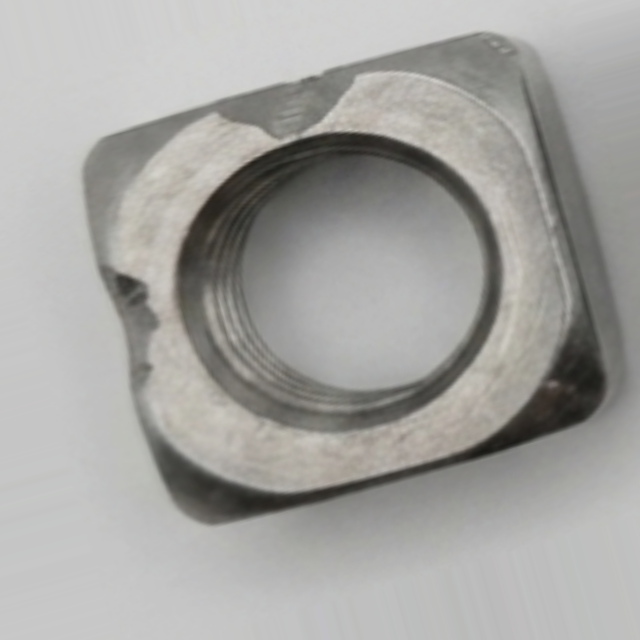defect: (202, 58, 364, 142), (94, 260, 162, 400)
